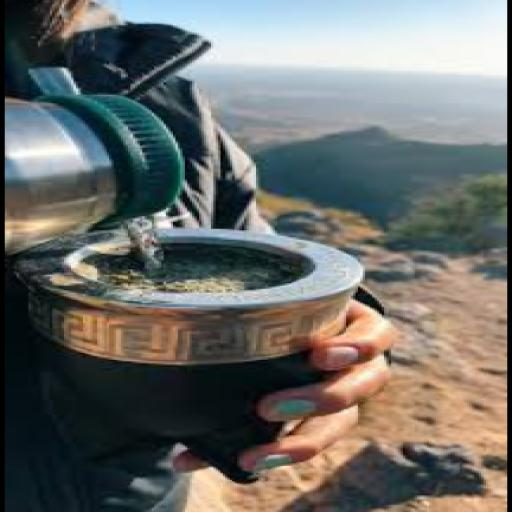mate: (17, 229, 365, 482)
termo: (5, 69, 184, 255)
